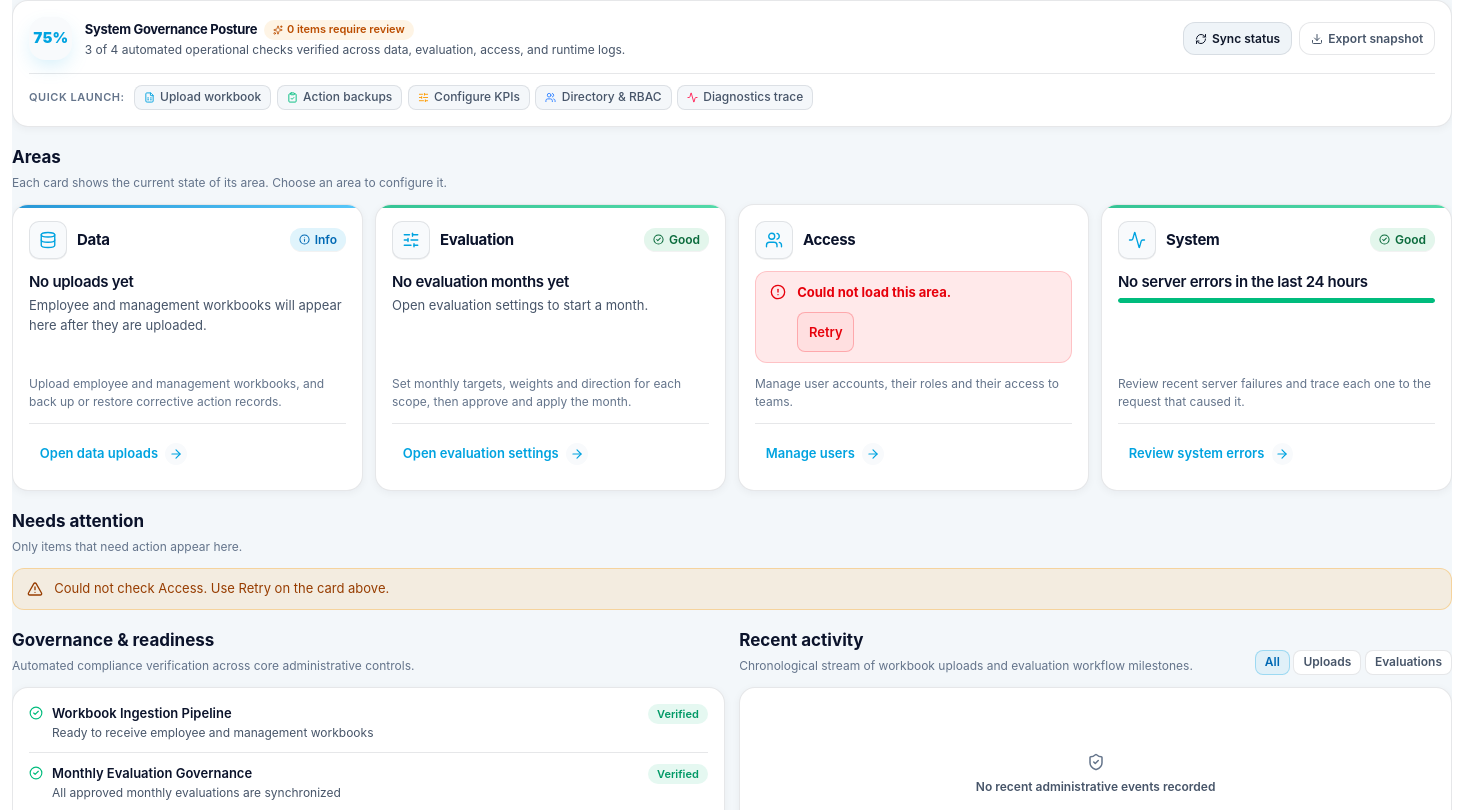
Test: AdminOverview loading, errors and Retry › shows an inline error with Retry, and Retry issues a new request that recovers
This screenshot has width=1464, height=810.
Check: the text "Could not load this area." is shown, box x1=797 y1=283 x2=951 y2=301
Check: the message "Could not load this area. Retry" is shown, box x1=755 y1=271 x2=1072 y2=363
Click the button with aria-label "Retry Access": point(826, 332) x1=797 y1=312 x2=854 y2=352
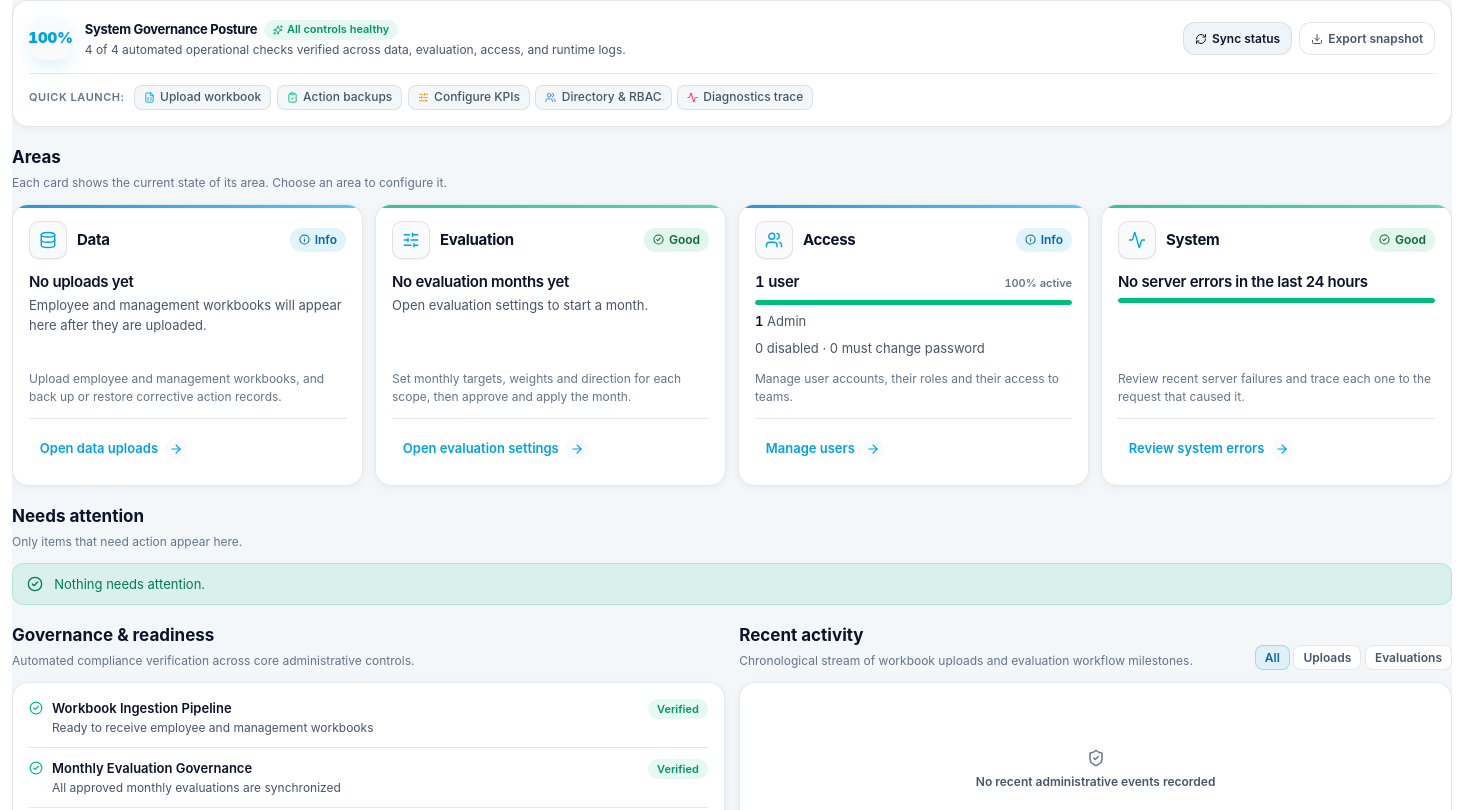
Check: the text "1 user" is shown, box x1=755 y1=271 x2=799 y2=293
